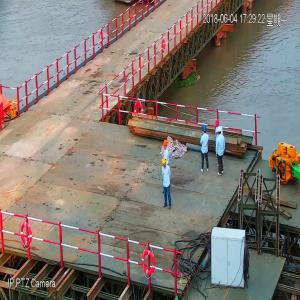blue: (203, 125, 207, 135)
red: (216, 120, 221, 129)
white: (217, 127, 222, 136)
yellow: (163, 158, 168, 168), (164, 141, 168, 151)
